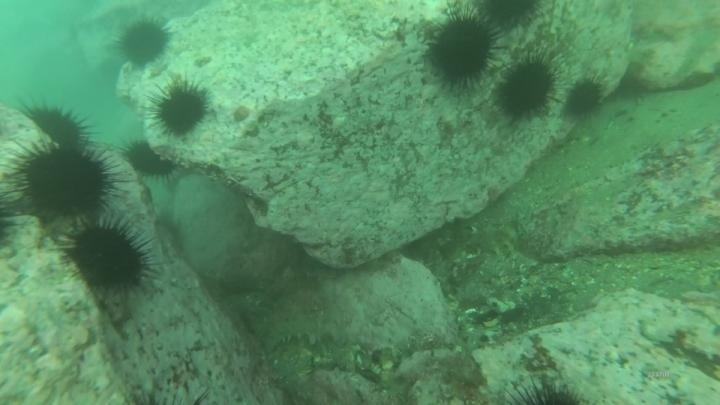echinus: (9, 141, 118, 224), (60, 218, 154, 296), (424, 9, 502, 91), (493, 53, 560, 122), (19, 98, 94, 152), (149, 78, 212, 139), (115, 17, 173, 69), (502, 372, 593, 405), (122, 138, 178, 180), (474, 1, 544, 33), (562, 76, 606, 120)
holothurian: (261, 307, 356, 351), (455, 216, 524, 260)
